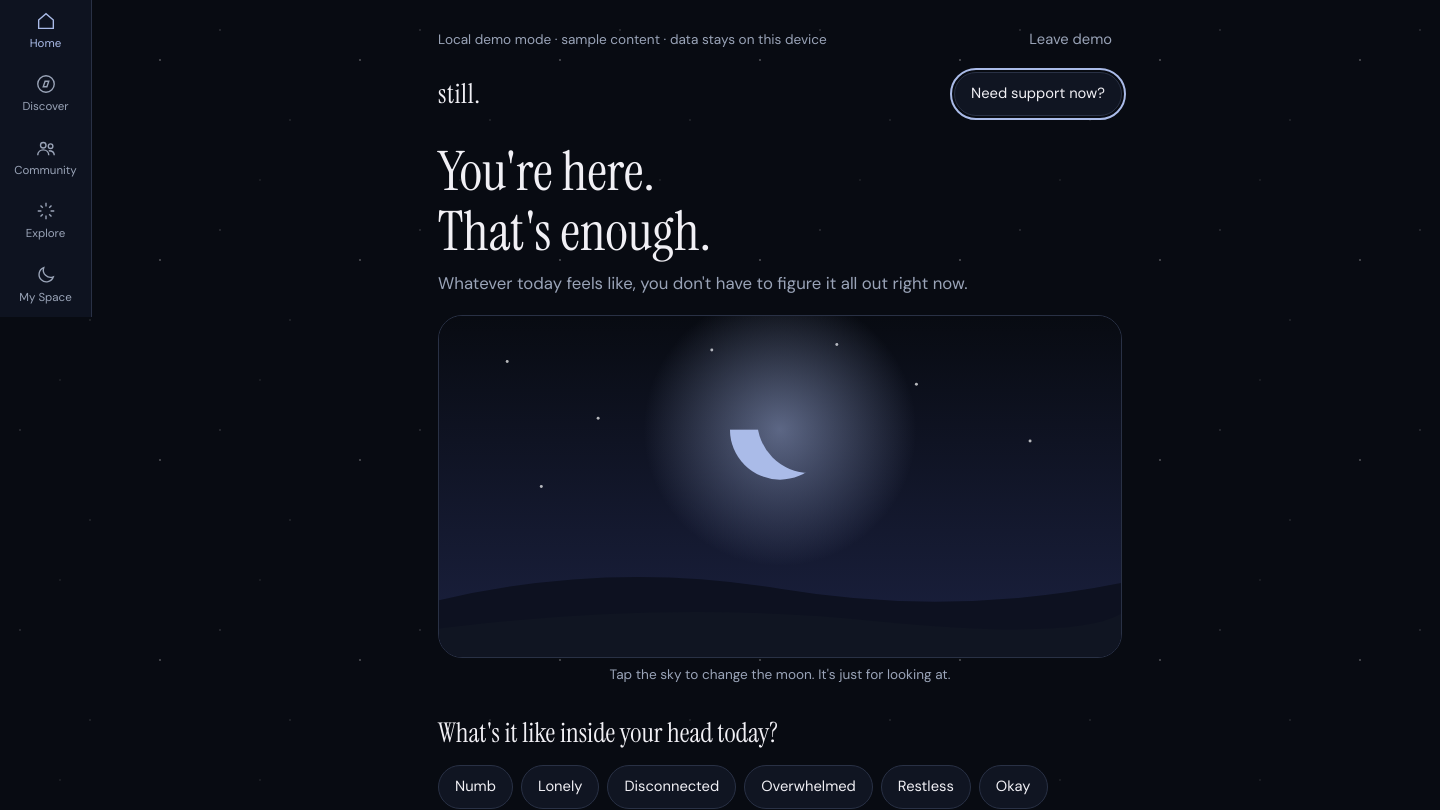
Scenario: traps focus in dialogs, closes on Escape, and restores focus to the opener
The width and height of the screenshot is (1440, 810).
Click the button "Need support now?" at (1038, 94), box [954,72,1122,116]
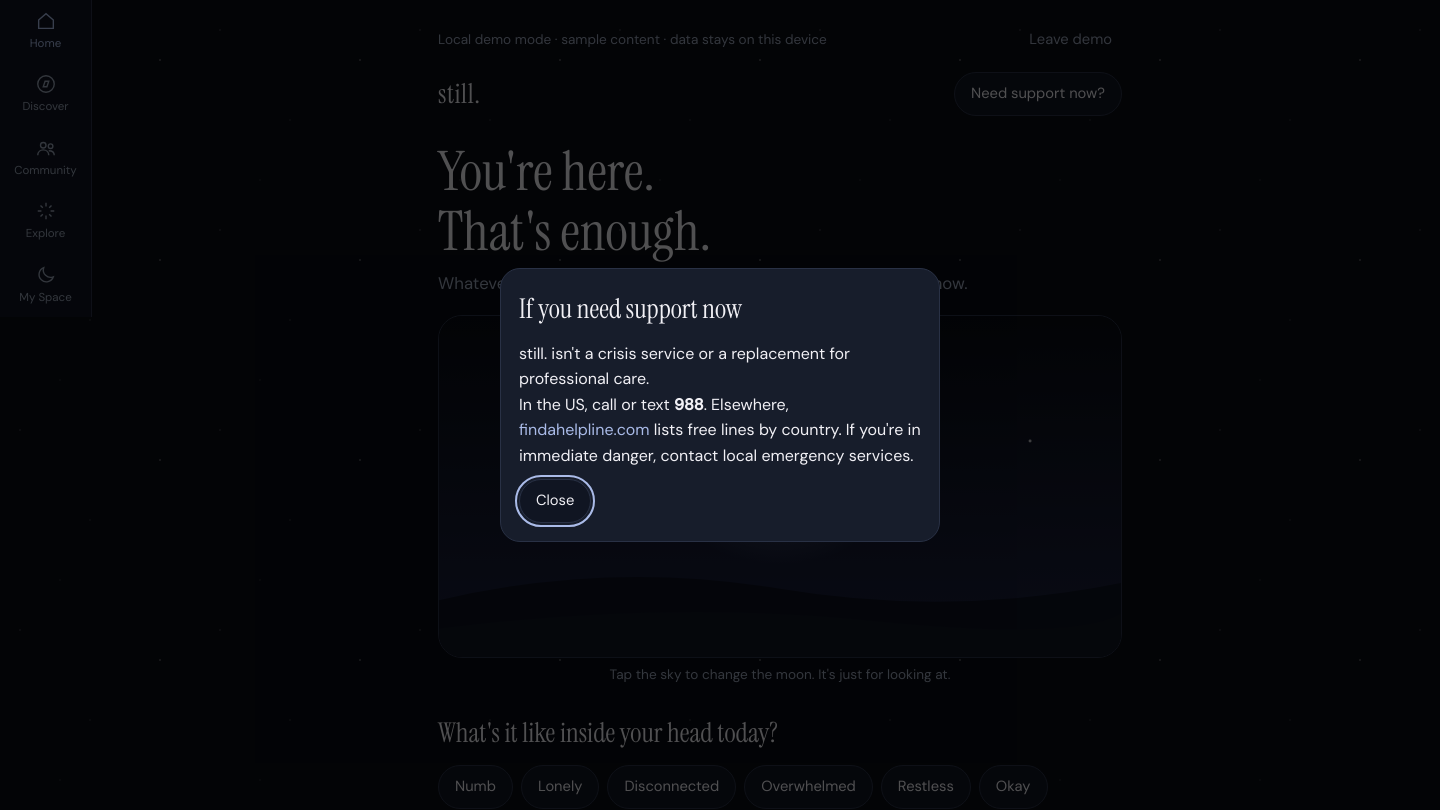
Press Tab
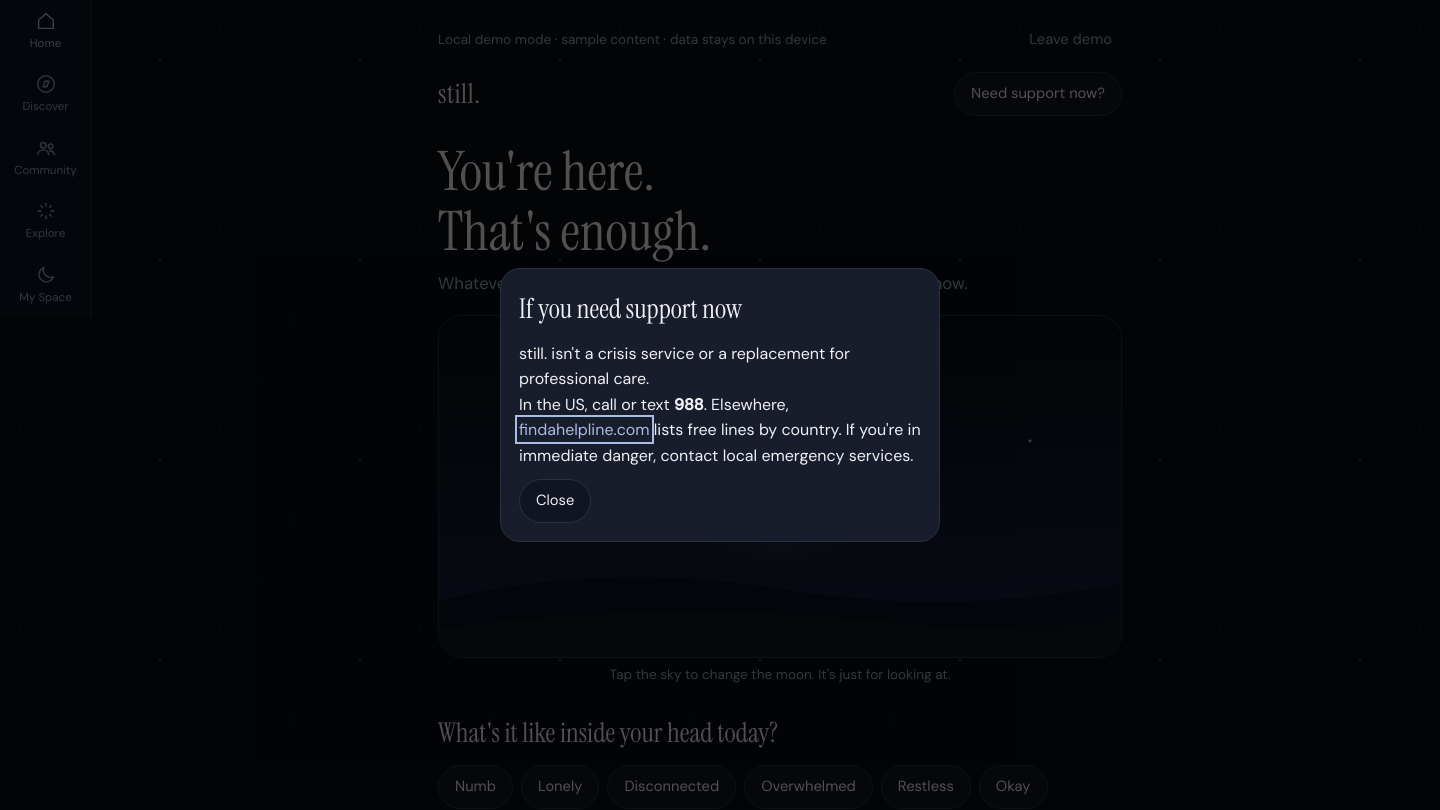
Press Tab
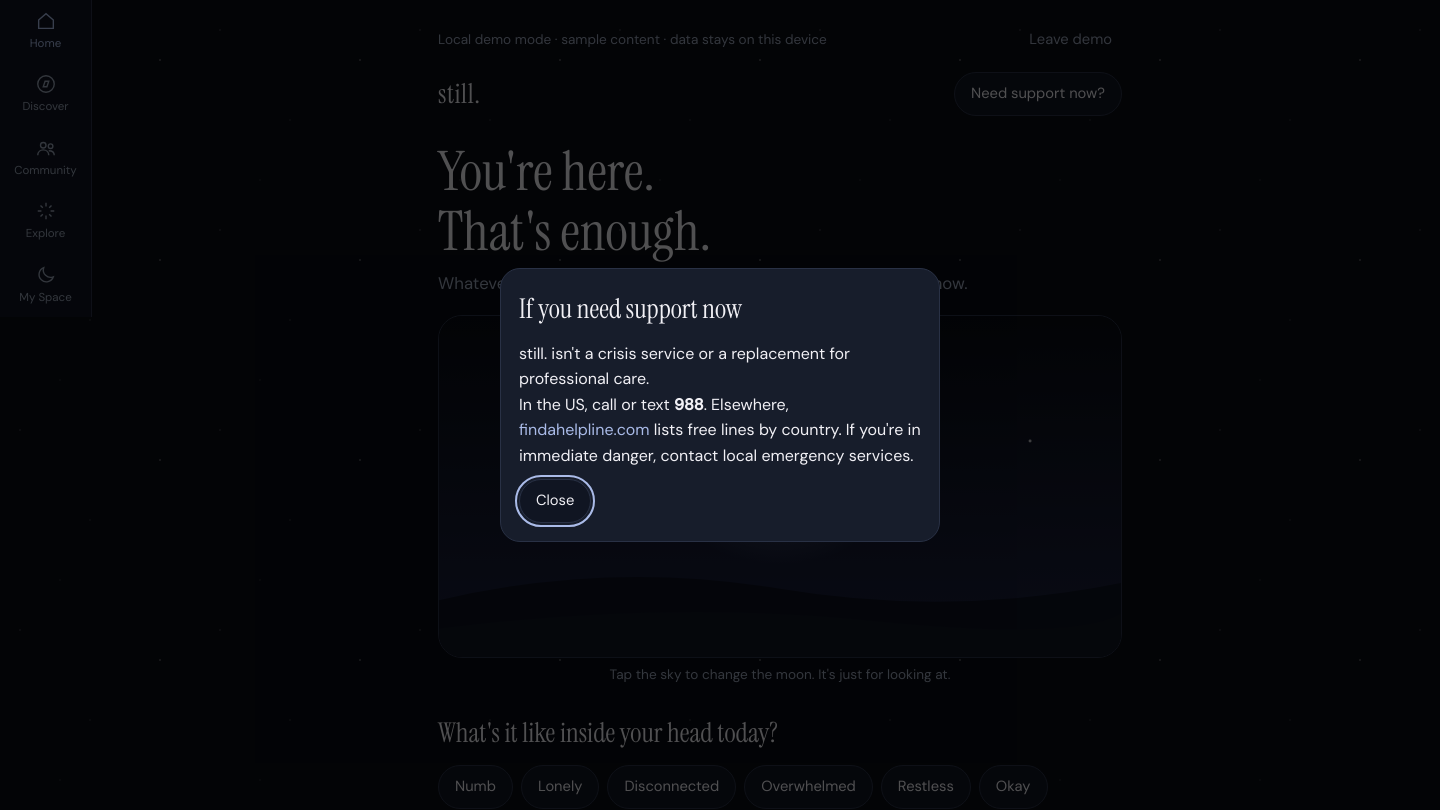
Press Escape
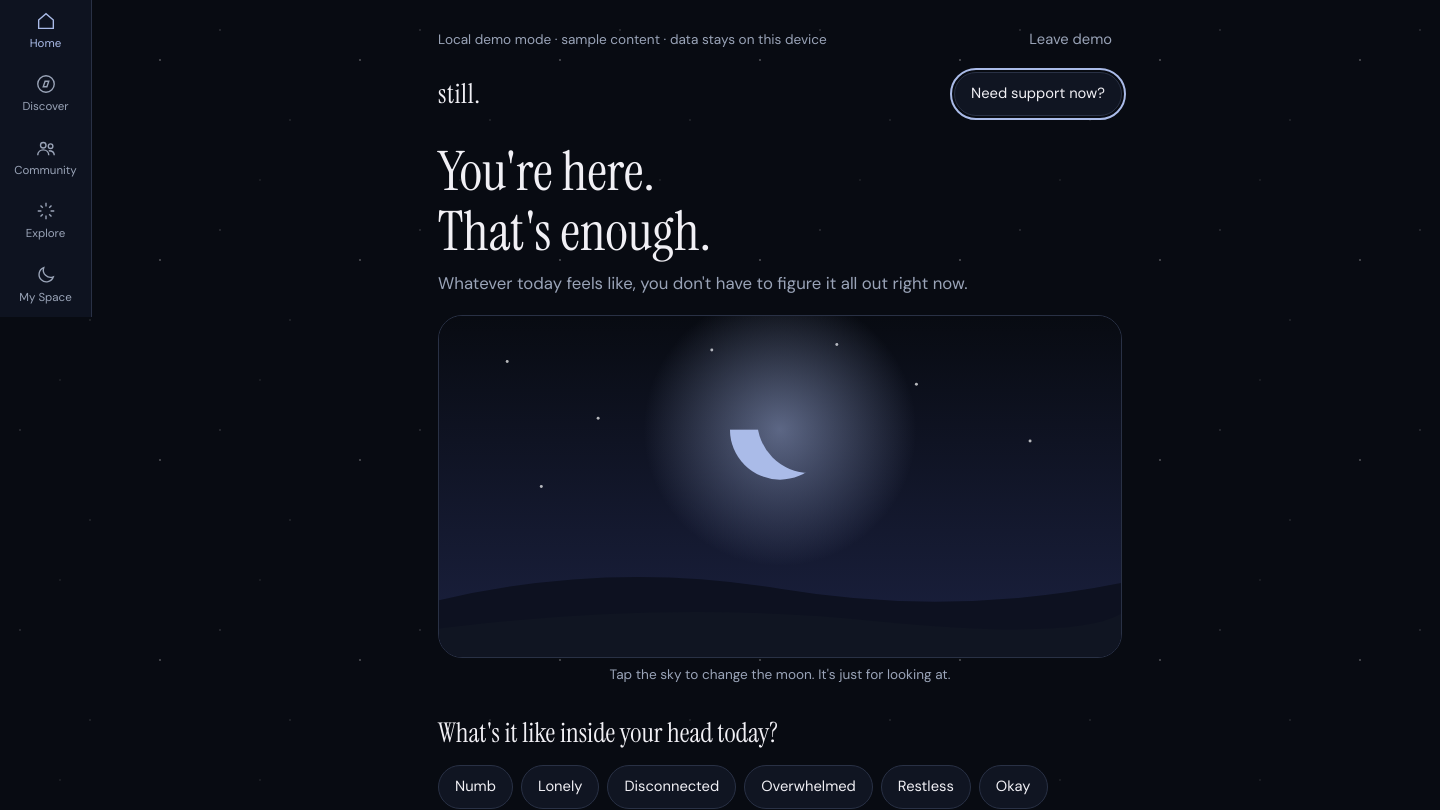
Expected: the dialog is gone
